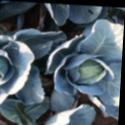cabbage: (72, 58, 111, 89), (0, 48, 16, 87)
